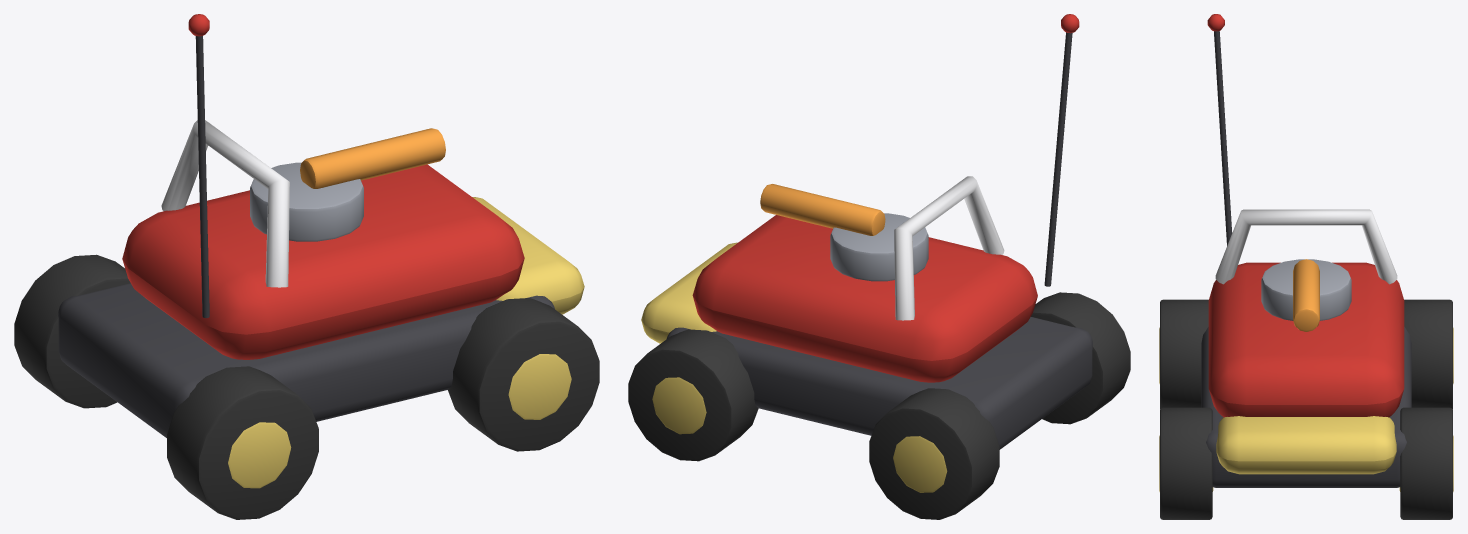
The model's file is rccar.glb.
The picture shows the model from 3 angles, left to right: view 1: azimuth 30°, elevation 25°; view 2: azimuth 150°, elevation 25°; view 3: azimuth 270°, elevation 25°; orthographic projection. The views are drawn at different scales.
Visible parts, largest first — view 1: shell, chassis, tyre-11, tyre11, tyre-1-1, rollbar, turretbase, turretgun, nose, rim-11, rim11, aerial; view 2: shell, chassis, tyre-1-1, tyre1-1, tyre-11, rollbar, turretbase, turretgun, nose, rim1-1, rim-1-1, aerial; view 3: shell, nose, tyre1-1, tyre11, chassis, tyre-1-1, tyre-11, rollbar, turretbase, turretgun, aerial.
Part boxes in pixels (left/top/right/bottom): shell: left=122, top=164, right=524, bottom=359; chassis: left=58, top=283, right=554, bottom=437; tyre-11: left=167, top=366, right=318, bottom=519; tyre11: left=448, top=298, right=599, bottom=451; tyre-1-1: left=14, top=254, right=130, bottom=408; rollbar: left=161, top=120, right=289, bottom=287; turretbase: left=250, top=162, right=363, bottom=241; turretgun: left=300, top=128, right=445, bottom=188; nose: left=472, top=197, right=584, bottom=314; rim-11: left=228, top=422, right=291, bottom=488; rim11: left=508, top=354, right=571, bottom=419; aerial: left=195, top=36, right=209, bottom=318; shell: left=692, top=215, right=1037, bottom=382; chassis: left=666, top=317, right=1092, bottom=449; tyre-1-1: left=869, top=388, right=999, bottom=519; tyre1-1: left=628, top=329, right=758, bottom=461; tyre-11: left=1031, top=292, right=1130, bottom=424; rollbar: left=894, top=176, right=1004, bottom=320; turretbase: left=830, top=213, right=928, bottom=281; turretgun: left=760, top=184, right=885, bottom=235; nose: left=641, top=242, right=737, bottom=343; rim1-1: left=652, top=377, right=706, bottom=434; rim-1-1: left=893, top=436, right=947, bottom=492; aerial: left=1044, top=32, right=1072, bottom=286; shell: left=1208, top=262, right=1404, bottom=417; nose: left=1216, top=416, right=1396, bottom=474; tyre1-1: left=1400, top=407, right=1452, bottom=519; tyre11: left=1160, top=407, right=1212, bottom=519; chassis: left=1201, top=327, right=1411, bottom=487; tyre-1-1: left=1404, top=299, right=1452, bottom=409; tyre-11: left=1160, top=299, right=1208, bottom=409; rollbar: left=1215, top=209, right=1397, bottom=284; turretbase: left=1261, top=259, right=1351, bottom=320; turretgun: left=1293, top=259, right=1319, bottom=331; aerial: left=1214, top=31, right=1232, bottom=245.
Bounding box in the file's own units: 0.5239 × 0.562 × 0.392.
